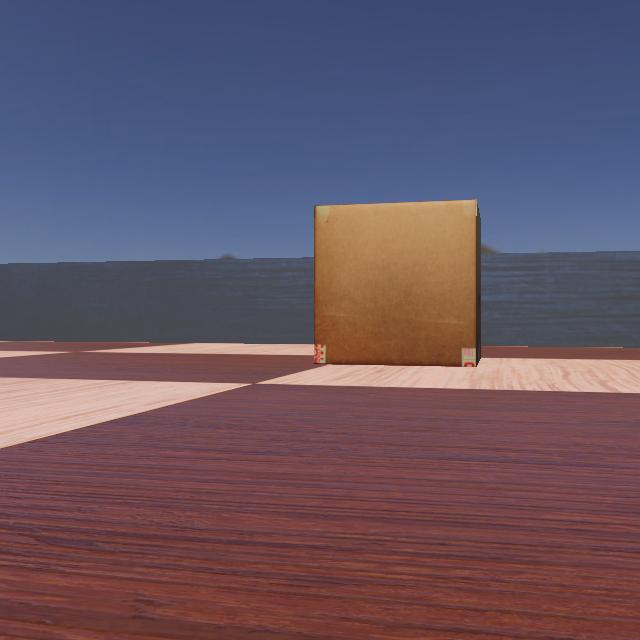cardboard-box: (312, 198, 518, 366)
